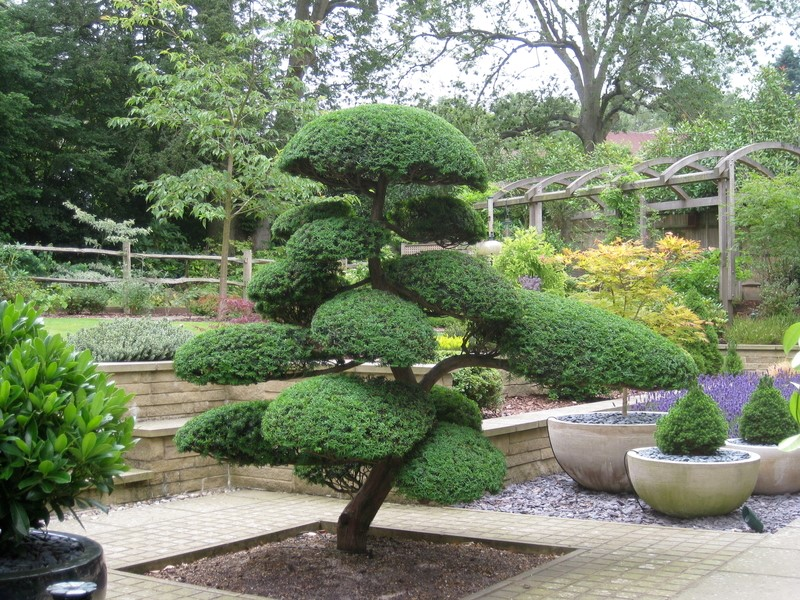dirt: (123, 515, 573, 597)
tree: (334, 448, 416, 553)
